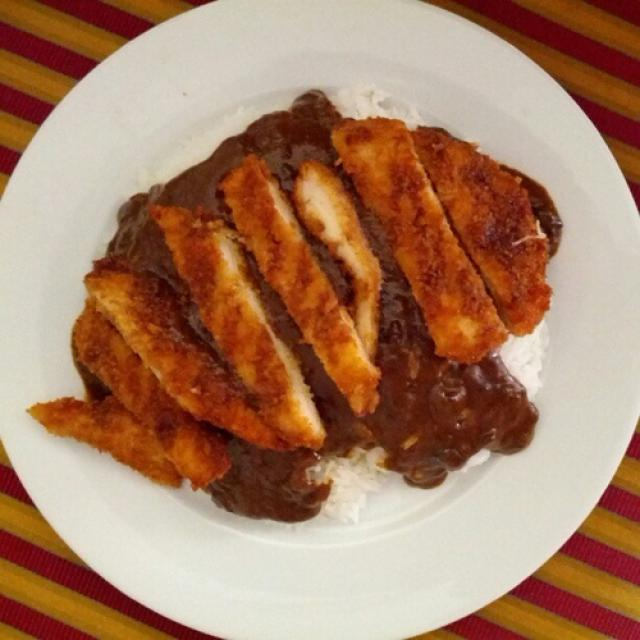鸡肉料理 含炸鸡: (36, 48, 591, 570)
